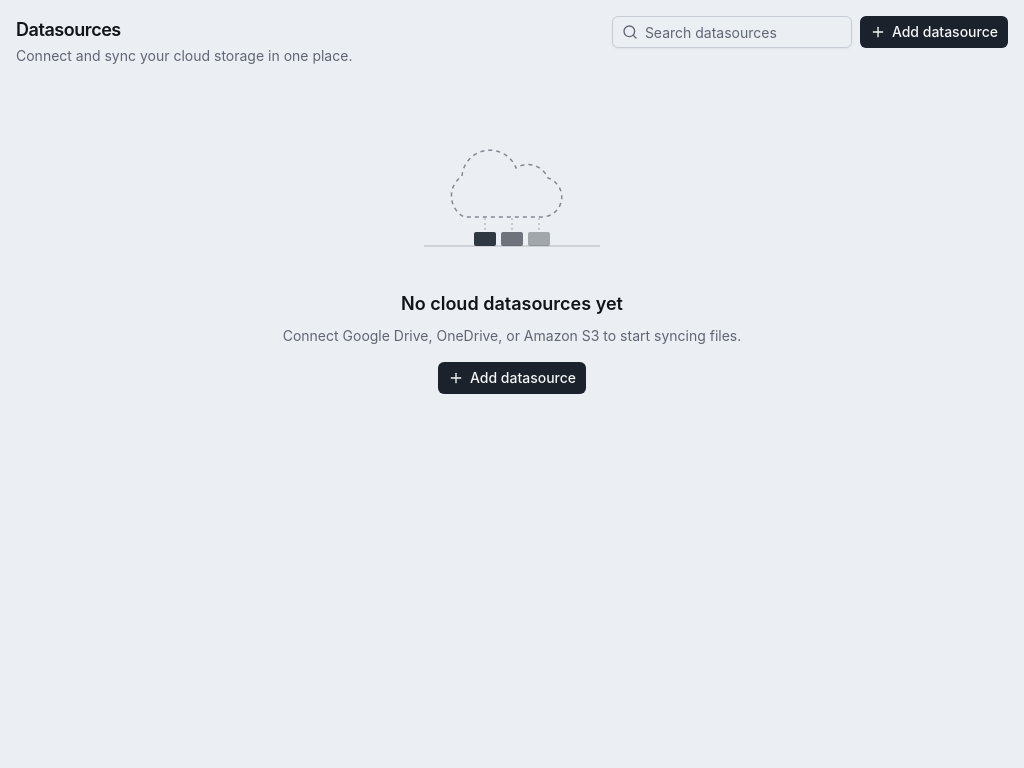
Scenario: AddDatasourceDialog › opens from the dashboard toolbar trigger
The image size is (1024, 768).
expect the element with test id "datasources-empty" is shown: met, box [283,114,741,394]
Click the button with test id "add-datasource-trigger" at (934,32), box [860,16,1008,48]
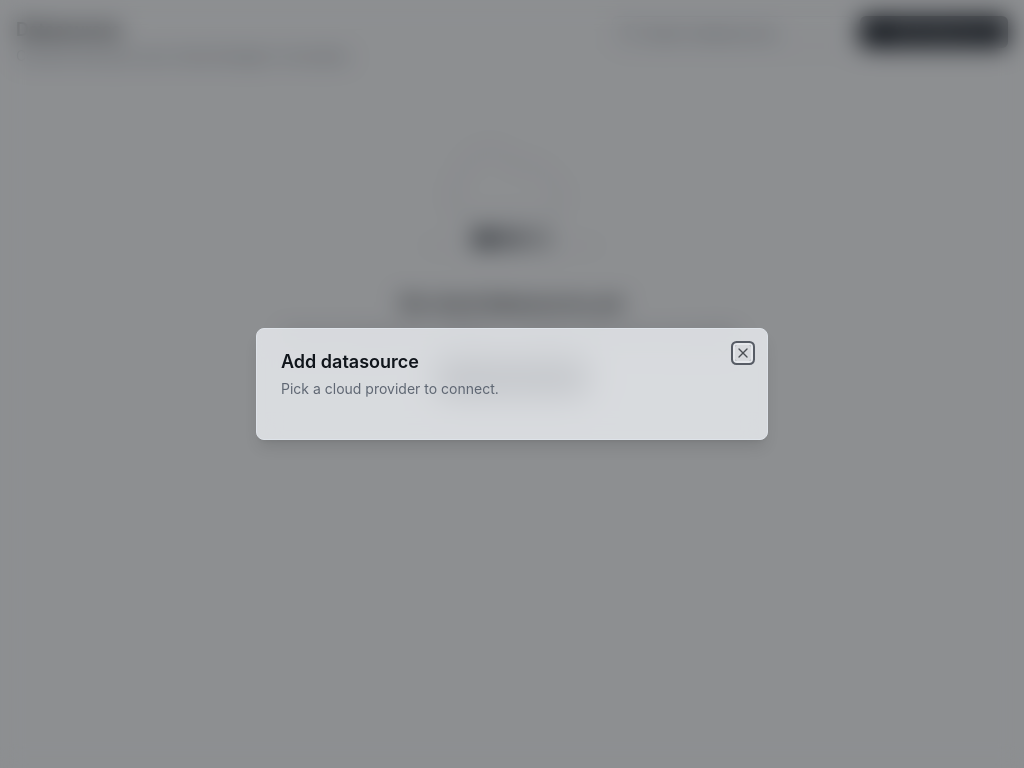
expect the dialog "Add datasource Pick a cloud provider to connect." is shown: met, box [256,328,768,440]
